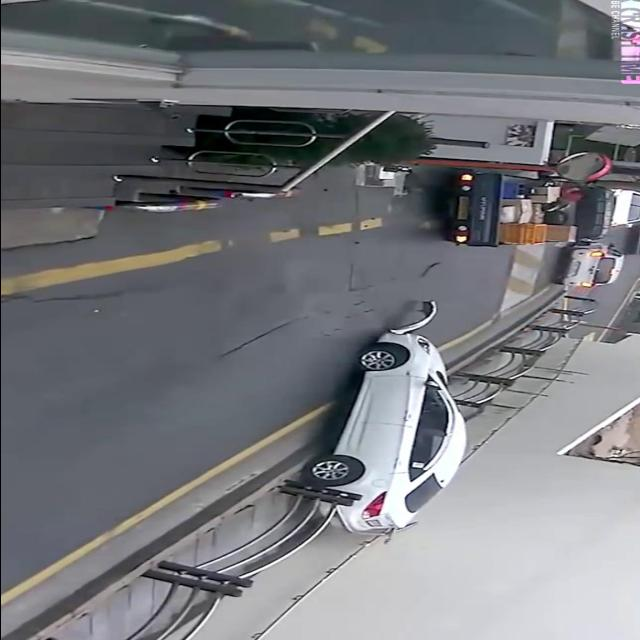accident: (286, 296, 482, 549)
non_accident: (424, 157, 640, 292)
